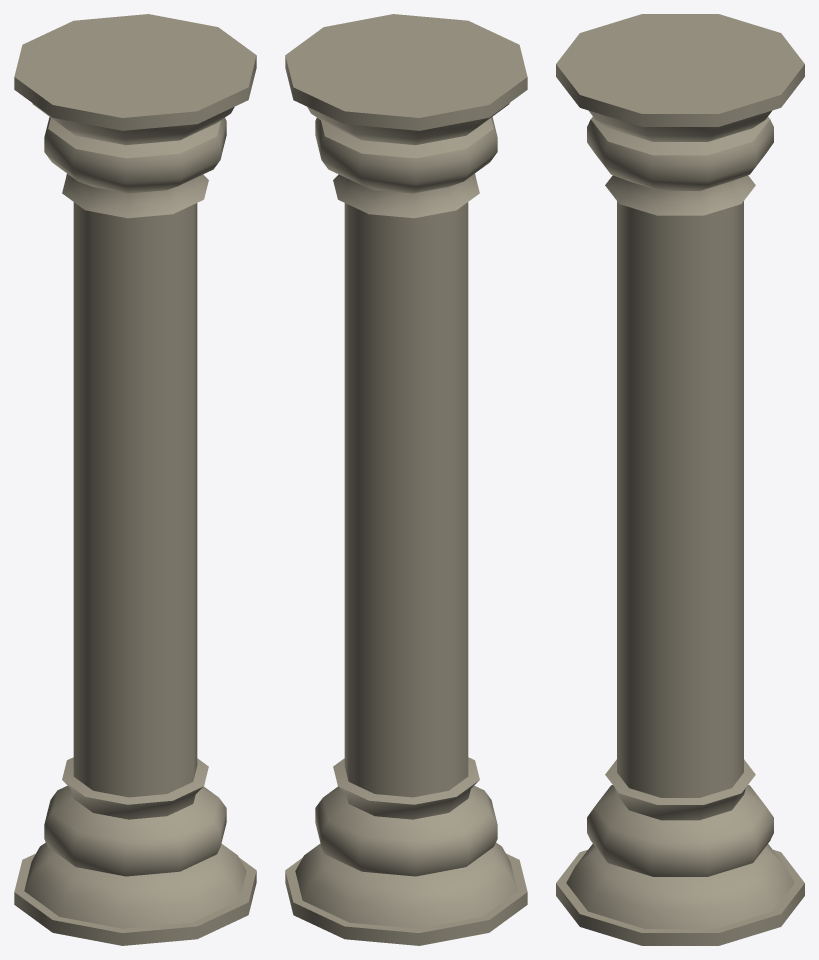
File: column-round-3.glb
The picture shows the model from 3 angles, left to right: view 1: azimuth 30°, elevation 25°; view 2: azimuth 150°, elevation 25°; view 3: azimuth 270°, elevation 25°; orthographic projection.
Visible parts, largest first — view 1: Column_Round3; view 2: Column_Round3; view 3: Column_Round3.
Part boxes in pixels (x1,y1,x2,y2): Column_Round3: (14,14,256,945); Column_Round3: (285,14,527,945); Column_Round3: (556,14,804,945).
Bounding box in the file's own units: 1.4 × 5.43 × 1.47.
